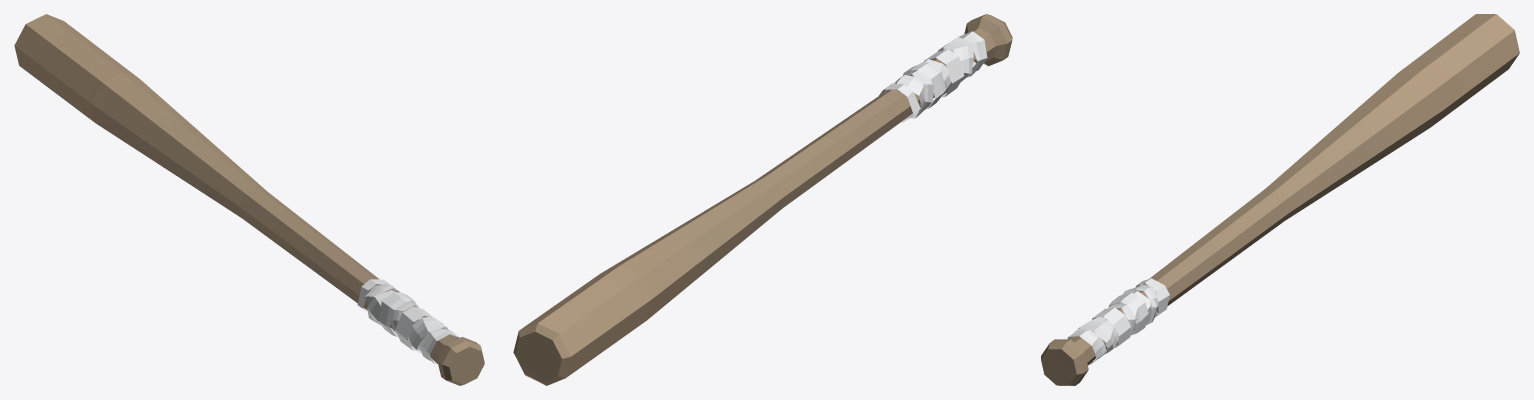
Rendered from BaseballBat.glb.
3 renders of one model, left to right at view 1: azimuth 30°, elevation 25°; view 2: azimuth 150°, elevation 25°; view 3: azimuth 330°, elevation 25°, orthographic. The views are drawn at different scales.
Visible parts, largest first — view 1: BaseballBat; view 2: BaseballBat; view 3: BaseballBat.
Boxes of the visible parts, x1,y1,x2,y2 form: BaseballBat: (14, 14, 484, 385); BaseballBat: (513, 14, 1012, 385); BaseballBat: (1041, 14, 1519, 385).
Bounding box in the file's own units: 0.1318 × 0.1391 × 1.8.
Materials: 1 (1 with a texture image).
